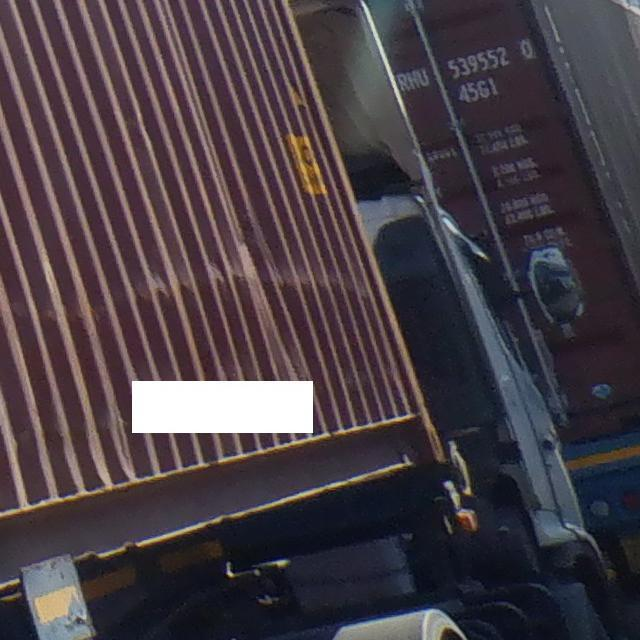dent: (187, 76, 294, 328)
